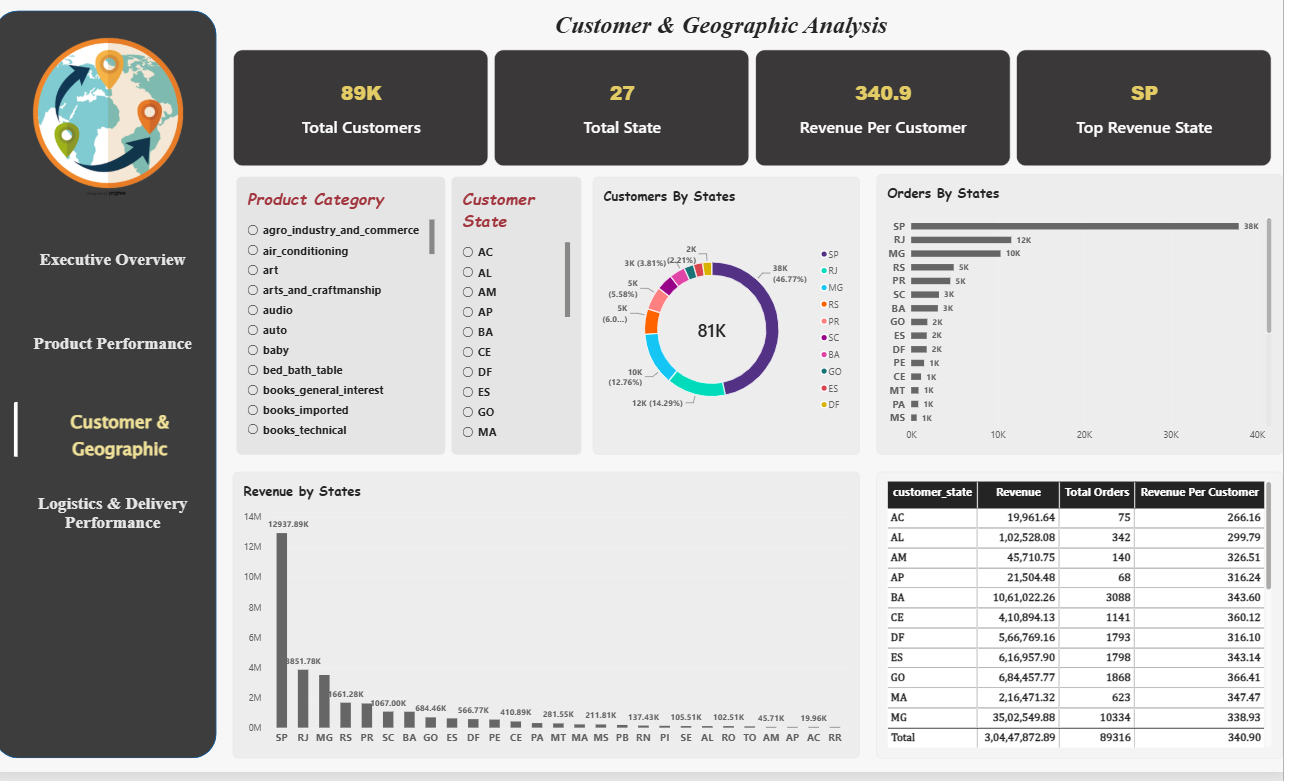

Layout of this report page (visuals, bound fields, positions):
{"tool":"powerbi","page":{"name":"Customer & Geographic","canvas":[2000,1200],"ordinal":2},"visuals":[{"type":"textbox","box":[334.6,18.8,1585.4,54.4],"z":0},{"type":"shape","box":[0,19.6,345.2,1160.4],"z":1},{"type":"image","box":[22.5,43.2,300.7,271.7],"z":2},{"type":"cardVisual","fields":{"Data":["df_Customers.Total Customers","df_Customers.Total State","df_Customers.Revenue Per Customer","df_Customers.Top Revenue State"]},"box":[370.9,79.3,1614.5,182.2],"z":3},{"type":"listSlicer","title":"Customer State","fields":{"Values":["df_Customers.customer_state"]},"box":[709,278,201.6,431],"z":4},{"type":"listSlicer","title":"Product Category","fields":{"Values":["df_Products.product_category_name"]},"box":[375.4,278,324.4,431],"z":5},{"type":"columnChart","title":"Revenue by States","fields":{"Category":["df_Customers.customer_state"],"Y":["df_Customers.Revenue"]},"box":[370.7,734.5,973.1,444.9],"z":6},{"type":"barChart","title":"Orders By States","fields":{"Y":["df_Customers.Total Orders"],"Category":["df_Customers.customer_state"]},"box":[1369.3,273.4,630.2,435.6],"z":7},{"type":"donutChart","title":"Customers By States","fields":{"Category":["df_Customers.customer_state"],"Y":["df_Customers.Total Customers"]},"box":[929.1,278,414.7,431],"z":8},{"type":"tableEx","fields":{"Values":["df_Customers.customer_state","df_Customers.Revenue","df_Customers.Total Orders","df_Customers.Revenue Per Customer"]},"box":[1369.3,734.5,630.2,444.9],"z":9},{"type":"pageNavigator","box":[11.6,345.2,345.2,519.8],"z":10}]}

Visuals, with their boxes on the page's 2000x1200 design canvas (x1, y1, x2, y2). These are canvas units, not pixel positions in the 1290x781 screenshot, which may show the page scaled, cropped or inside an application window:
textbox: region(335, 19, 1920, 73)
shape: region(0, 20, 345, 1180)
image: region(22, 43, 323, 315)
cardVisual - df_Customers.Total Customers x df_Customers.Total State: region(371, 79, 1985, 262)
"Customer State" listSlicer: region(709, 278, 911, 709)
"Product Category" listSlicer: region(375, 278, 700, 709)
"Revenue by States" columnChart: region(371, 734, 1344, 1179)
"Orders By States" barChart: region(1369, 273, 2000, 709)
"Customers By States" donutChart: region(929, 278, 1344, 709)
tableEx - df_Customers.customer_state x df_Customers.Revenue: region(1369, 734, 2000, 1179)
pageNavigator: region(12, 345, 357, 865)
